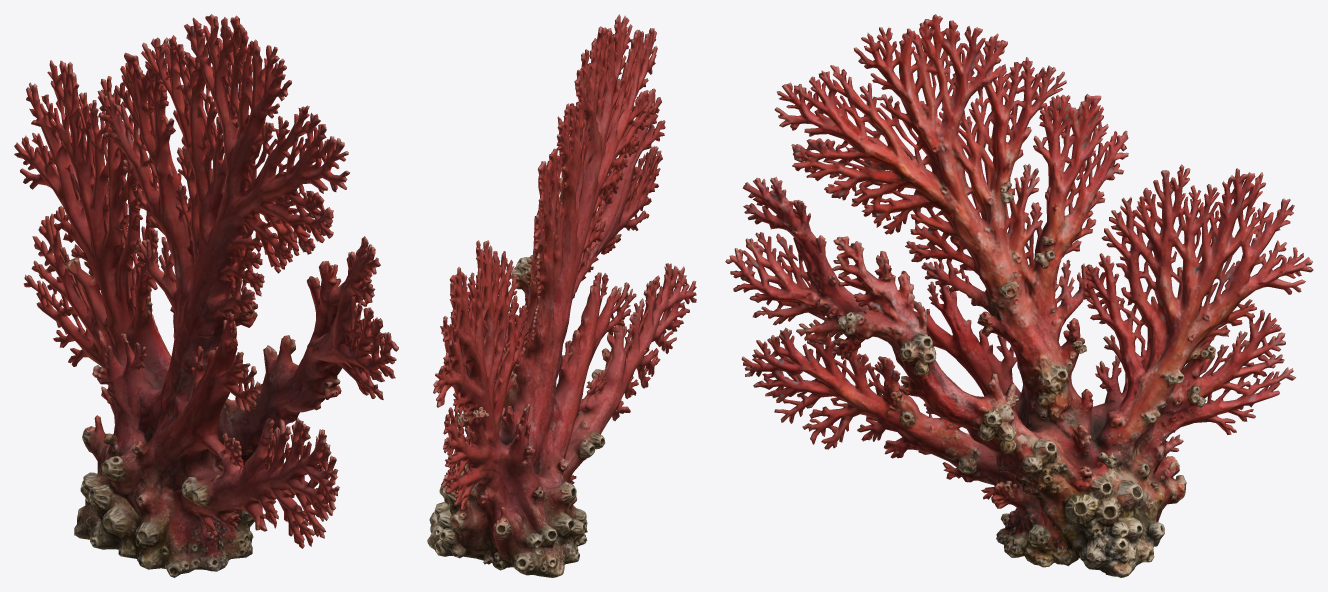
The picture shows the model from 3 angles, left to right: view 1: azimuth 30°, elevation 25°; view 2: azimuth 150°, elevation 25°; view 3: azimuth 270°, elevation 25°; orthographic projection. The views are drawn at different scales.
Parts seen in each view (by area): view 1: tripo_node_cf09869a-b11e-471b-a1ab-299934a6fc06; view 2: tripo_node_cf09869a-b11e-471b-a1ab-299934a6fc06; view 3: tripo_node_cf09869a-b11e-471b-a1ab-299934a6fc06.
Part boxes in pixels (<box>): tripo_node_cf09869a-b11e-471b-a1ab-299934a6fc06: <box>14,14,398,577</box>; tripo_node_cf09869a-b11e-471b-a1ab-299934a6fc06: <box>427,14,696,577</box>; tripo_node_cf09869a-b11e-471b-a1ab-299934a6fc06: <box>725,14,1313,577</box>.
Size of the model in its own units: 0.2977 by 0.9635 by 0.9801.
1 material, 1 textured.
